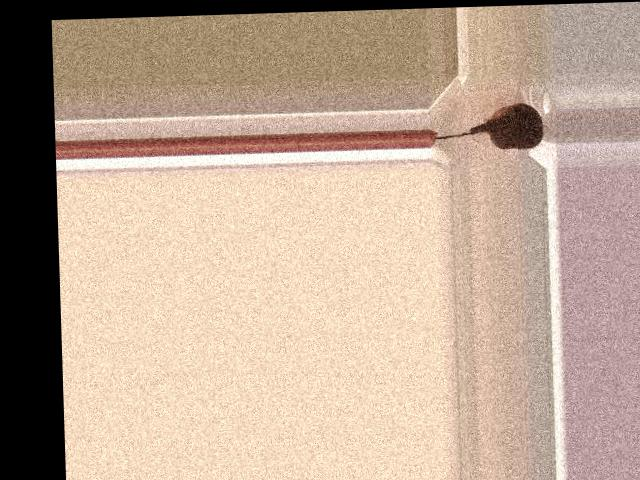beet: (432, 101, 543, 151)
